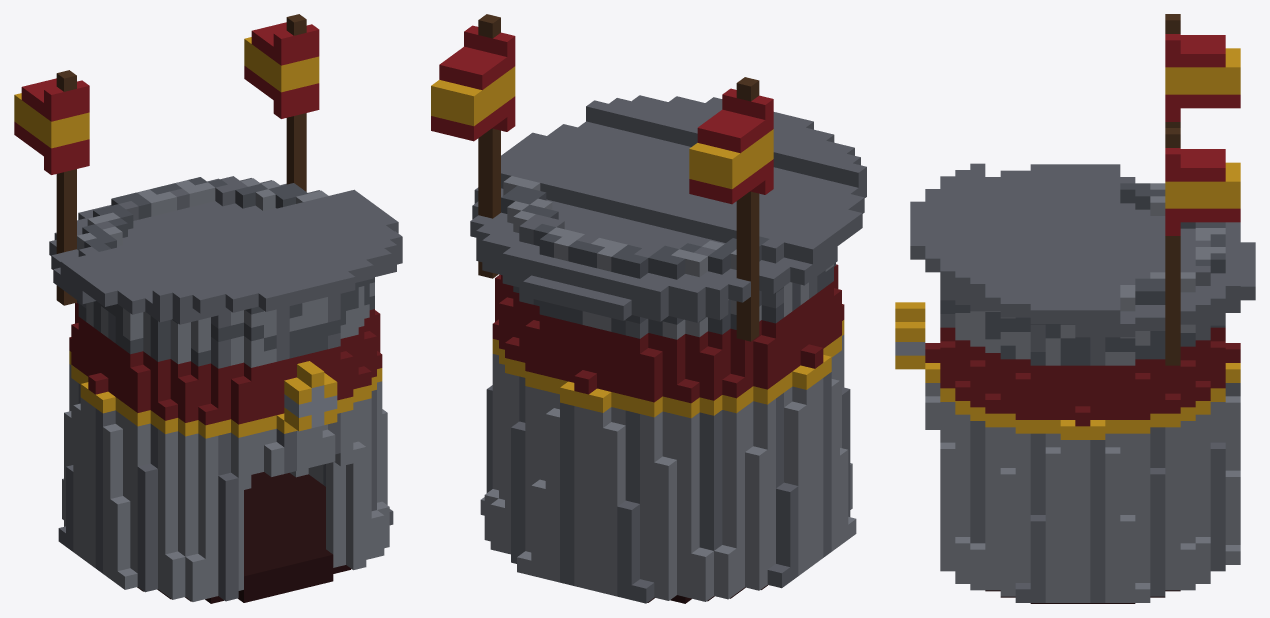
File: bin.glb
The picture shows the model from 3 angles, left to right: view 1: azimuth 30°, elevation 25°; view 2: azimuth 150°, elevation 25°; view 3: azimuth 270°, elevation 25°; orthographic projection. The views are drawn at different scales.
Visible parts, largest first — view 1: Main; view 2: Main; view 3: Main.
Part boxes in pixels (x1=…): Main: x1=14, y1=14, x2=402, y2=603; Main: x1=431, y1=14, x2=866, y2=603; Main: x1=895, y1=14, x2=1255, y2=603.
Bounding box in the file's own units: 4.22 × 6.42 × 4.4.
